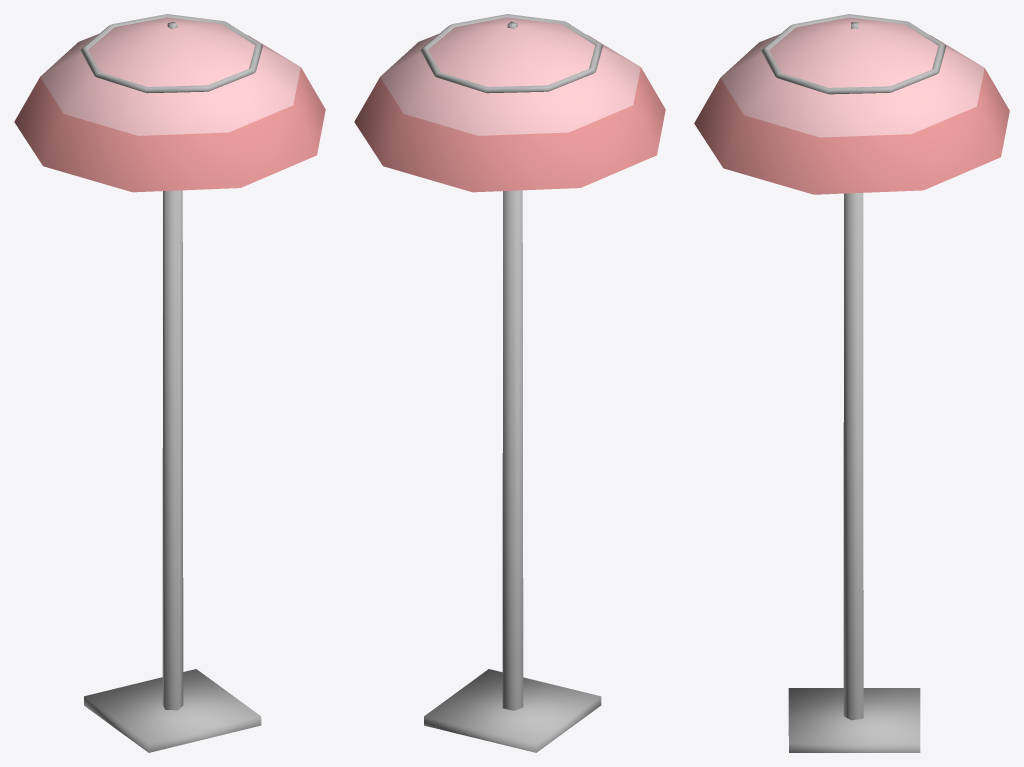
The model's file is Lamp_M_01.fbx.
3 views of the same model, side by side, from view 1: azimuth 30°, elevation 25°; view 2: azimuth 150°, elevation 25°; view 3: azimuth 270°, elevation 25° (orthographic).
Visible parts, largest first — view 1: Lamp_M_01; view 2: Lamp_M_01; view 3: Lamp_M_01.
Boxes of the visible parts, x1=… form: Lamp_M_01: x1=14, y1=14, x2=325, y2=752; Lamp_M_01: x1=354, y1=14, x2=665, y2=752; Lamp_M_01: x1=694, y1=14, x2=1009, y2=752.
Size of the model in its own units: 65.55 by 160 by 65.47.
1 material, 1 textured.
